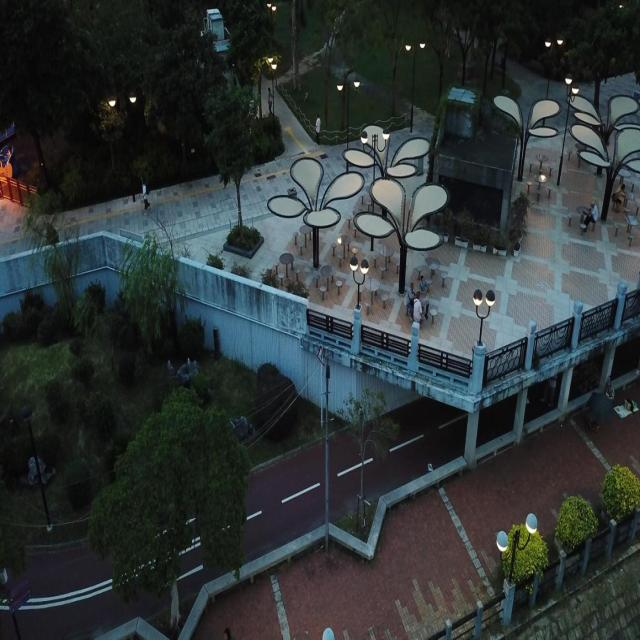car: (229, 414, 255, 442)
person: (581, 199, 598, 232), (611, 183, 626, 212), (314, 113, 320, 144), (267, 87, 273, 116)
tree: (86, 383, 252, 632), (202, 78, 264, 240), (334, 385, 400, 533)
